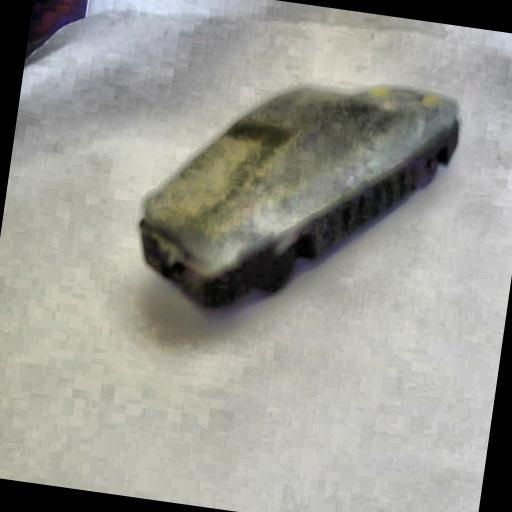normal_car: (116, 44, 472, 353)
